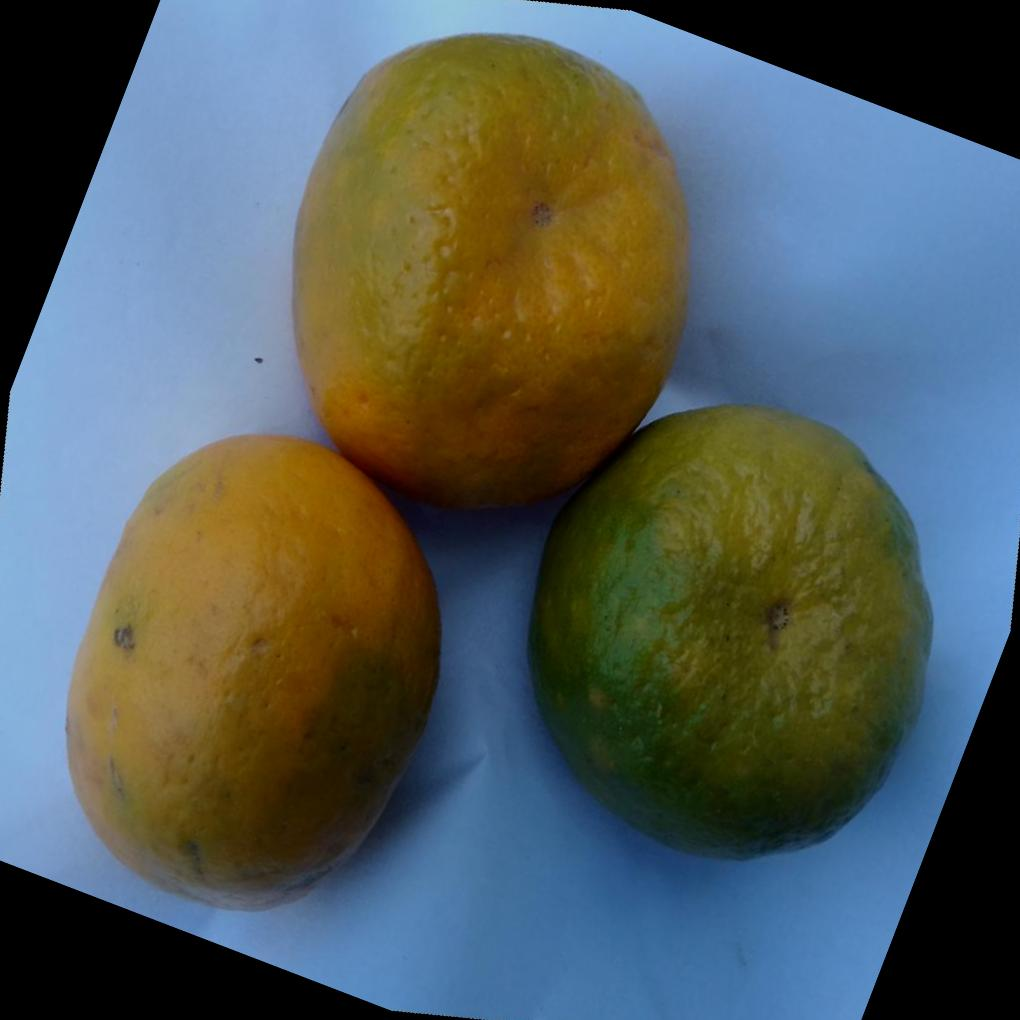FreshGuava: (62, 33, 933, 900)
